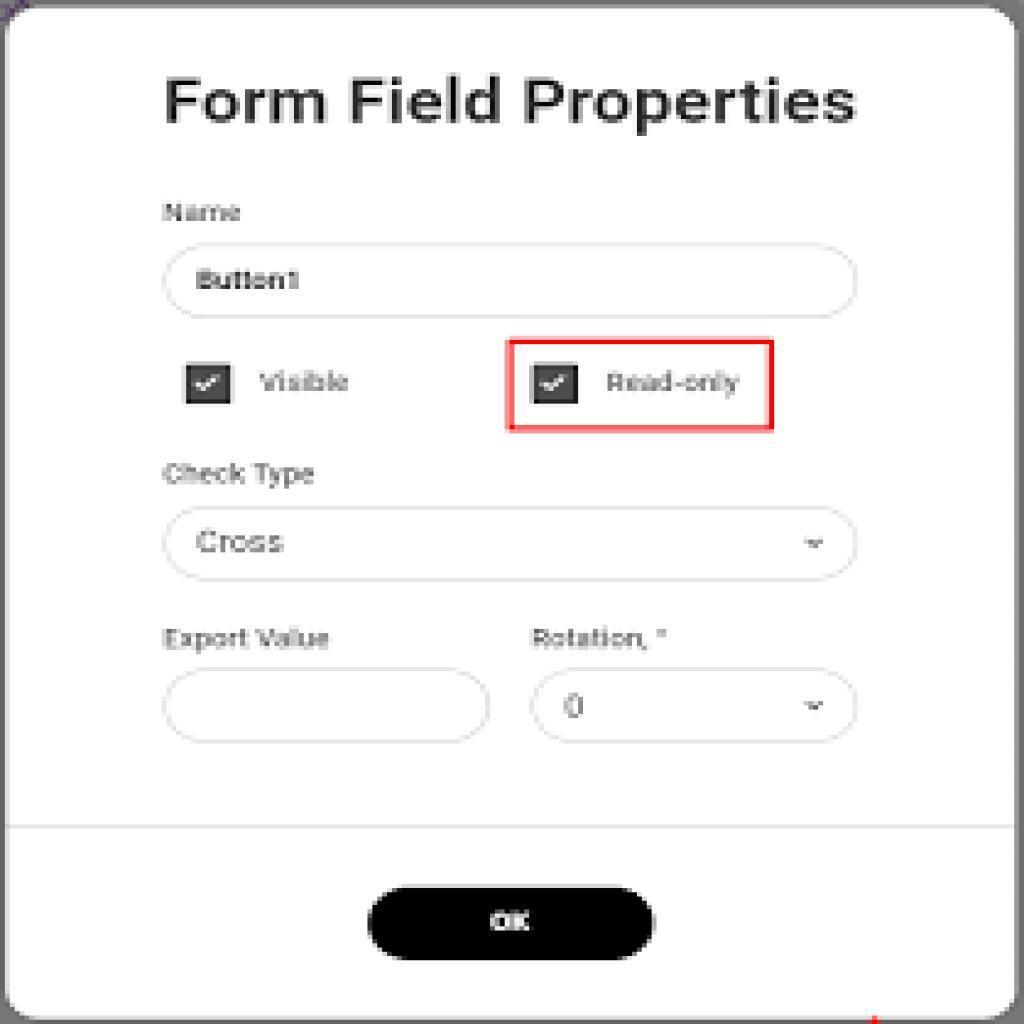button: (367, 882, 654, 964)
checkbox: (530, 362, 578, 407), (189, 365, 233, 407)
dropdown: (167, 505, 860, 586), (533, 667, 859, 747)
input: (167, 243, 862, 316), (159, 667, 491, 746)
label: (603, 365, 741, 404), (156, 624, 333, 654), (531, 623, 668, 659), (164, 460, 323, 490), (259, 369, 356, 400), (163, 197, 247, 231)
